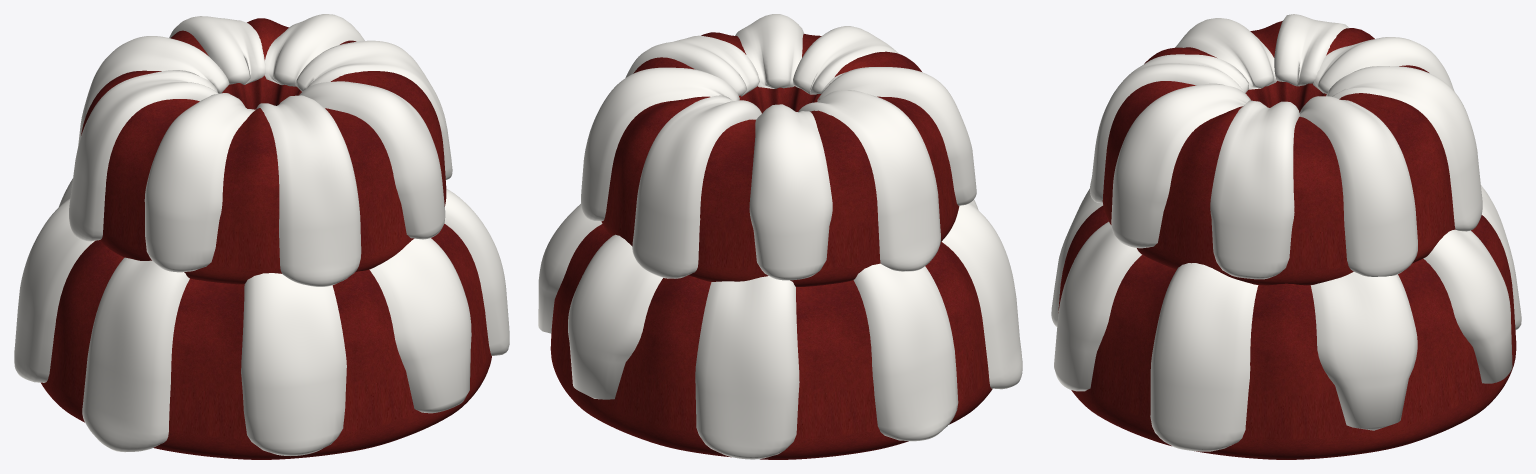
File: tiered_redvelvet.glb
3 views of the same model, side by side, from view 1: azimuth 30°, elevation 25°; view 2: azimuth 150°, elevation 25°; view 3: azimuth 270°, elevation 25° (orthographic).
Parts seen in each view (by area): view 1: cake.001, cake.002, frosting.005, frosting.004, frosting.013, frosting.012, frosting.006, frosting.014, frosting.011, frosting.003, frosting.015, frosting.007 (+3 smaller); view 2: cake.001, cake.002, frosting.002, frosting.003, frosting.010, frosting.009, frosting.011, frosting.001, frosting.008, frosting.004, frosting.012, frosting.014 (+3 smaller); view 3: cake.001, cake.002, frosting.007, frosting.015, frosting, frosting.008, frosting.014, frosting.009, frosting.006, frosting.001, frosting.013, frosting.010 (+4 smaller).
Boxes of the visible parts, bbox=[...] form: cake.001: bbox=[41, 224, 491, 459]; cake.002: bbox=[81, 18, 446, 284]; frosting.005: bbox=[241, 273, 346, 455]; frosting.004: bbox=[82, 257, 189, 452]; frosting.013: bbox=[256, 95, 361, 286]; frosting.012: bbox=[144, 93, 255, 272]; frosting.006: bbox=[369, 238, 471, 413]; frosting.014: bbox=[299, 81, 445, 239]; frosting.011: bbox=[69, 70, 218, 241]; frosting.003: bbox=[14, 198, 94, 382]; frosting.015: bbox=[295, 40, 452, 179]; frosting.007: bbox=[444, 189, 509, 355]; cake.001: bbox=[550, 224, 992, 459]; cake.002: bbox=[601, 32, 959, 286]; frosting.002: bbox=[695, 276, 799, 459]; frosting.003: bbox=[853, 263, 958, 441]; frosting.010: bbox=[749, 104, 832, 280]; frosting.009: bbox=[632, 95, 761, 278]; frosting.011: bbox=[798, 90, 940, 271]; frosting.001: bbox=[568, 234, 662, 399]; frosting.008: bbox=[581, 67, 739, 221]; frosting.004: bbox=[941, 203, 1022, 389]; frosting.012: bbox=[817, 67, 976, 205]; frosting.014: bbox=[735, 14, 803, 88]; cake.001: bbox=[1058, 205, 1516, 459]; cake.002: bbox=[1102, 21, 1455, 285]; frosting.007: bbox=[1150, 263, 1258, 451]; frosting.015: bbox=[1210, 100, 1300, 279]; frosting: bbox=[1310, 272, 1417, 430]; frosting.008: bbox=[1299, 96, 1417, 276]; frosting.014: bbox=[1111, 83, 1250, 248]; frosting.009: bbox=[1326, 66, 1482, 231]; frosting.006: bbox=[1054, 221, 1141, 391]; frosting.001: bbox=[1423, 229, 1512, 383]; frosting.013: bbox=[1090, 54, 1248, 202]; frosting.010: bbox=[1313, 37, 1454, 93].
Size of the model in its own units: 0.2663 by 0.1918 by 0.2672.
2 materials, 1 textured.
